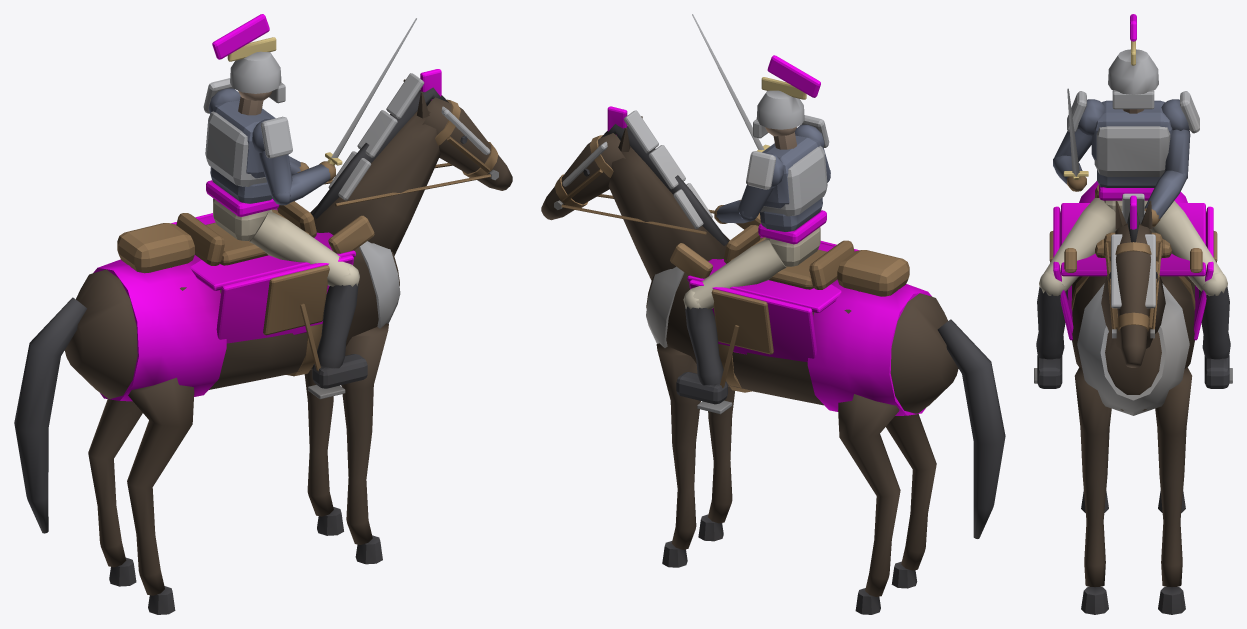
File: cuirassier.glb
3 renders of one model, left to right at view 1: azimuth 30°, elevation 25°; view 2: azimuth 150°, elevation 25°; view 3: azimuth 270°, elevation 25°, orthographic. The views are drawn at different scales.
Visible parts, largest first — view 1: Body; view 2: Body; view 3: Body.
Part boxes in pixels (box(x1,y1,x2,y2)): Body: box(14, 14, 512, 614); Body: box(541, 14, 1005, 614); Body: box(1034, 14, 1232, 614).
Size of the model in its own units: 2.71 by 2.88 by 0.9504.
1 material, 1 textured.
